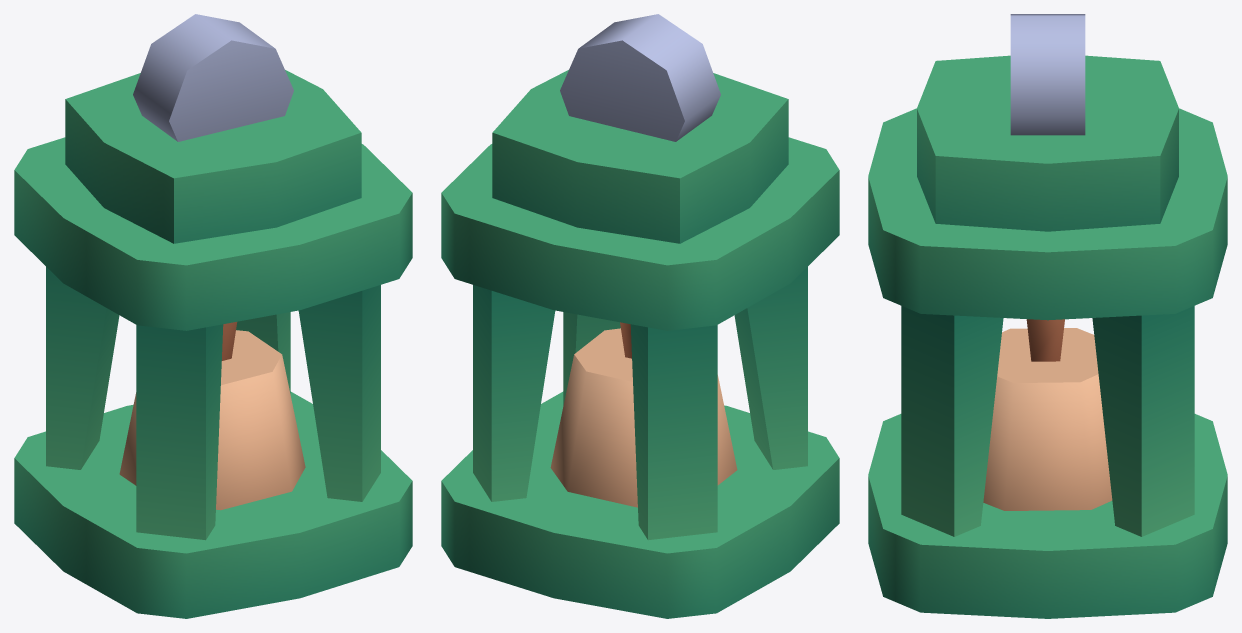
The model's file is cc0-lantern-candle-lod1.glb.
3 views of the same model, side by side, from view 1: azimuth 30°, elevation 25°; view 2: azimuth 150°, elevation 25°; view 3: azimuth 270°, elevation 25° (orthographic). The views are drawn at different scales.
Visible parts, largest first — view 1: part_0; view 2: part_0; view 3: part_0.
Boxes of the visible parts, x1,y1,x2,y2 form: part_0: (14, 14, 412, 618); part_0: (441, 14, 839, 618); part_0: (868, 14, 1227, 618).
Size of the model in its own units: 0.24 by 0.3877 by 0.24.
1 material, 1 textured.
